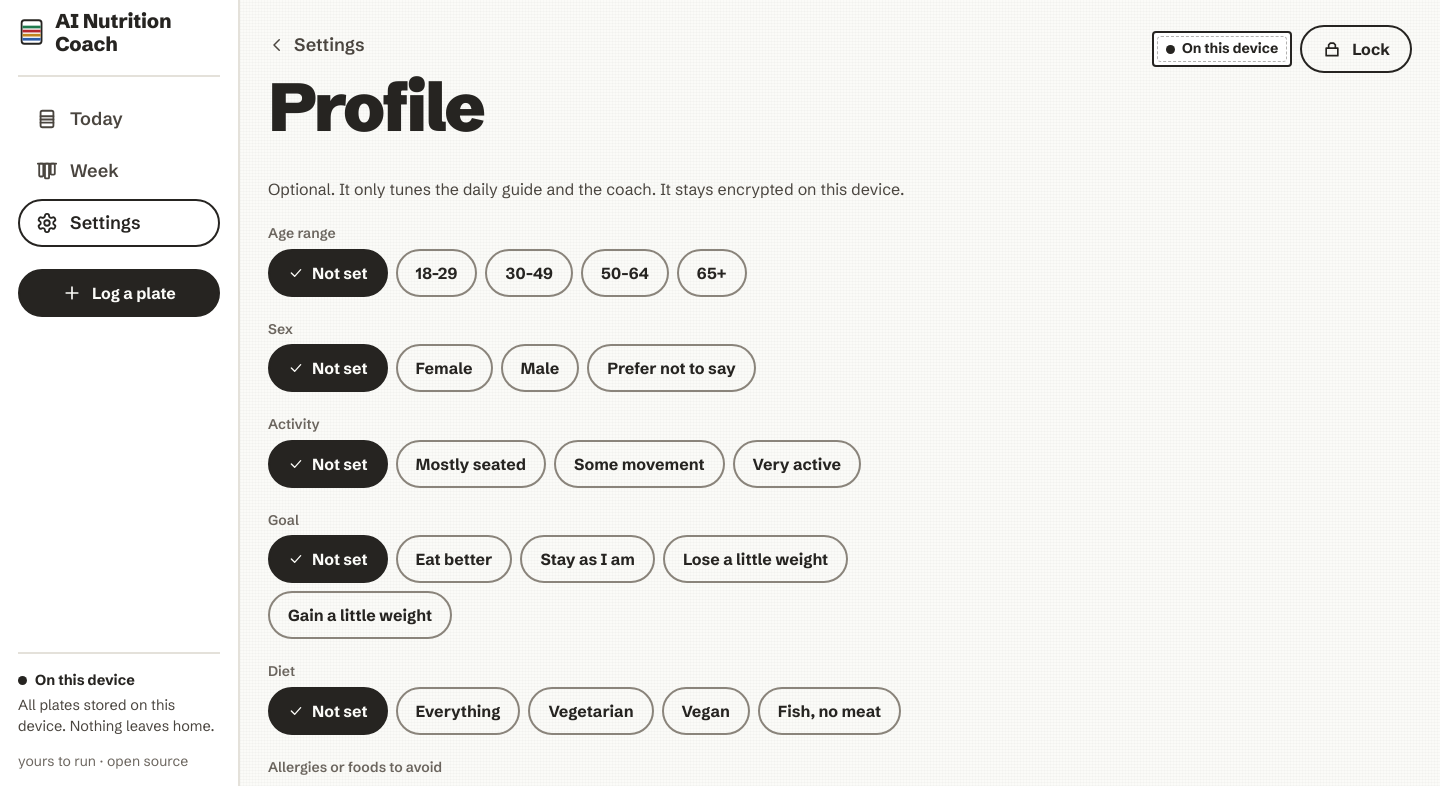
Test: ProfileScreen › a choice is kept in the encrypted store and personalises the guide
Click the radio button labelled "Female". click: (444, 368)
box: [396, 344, 492, 392]
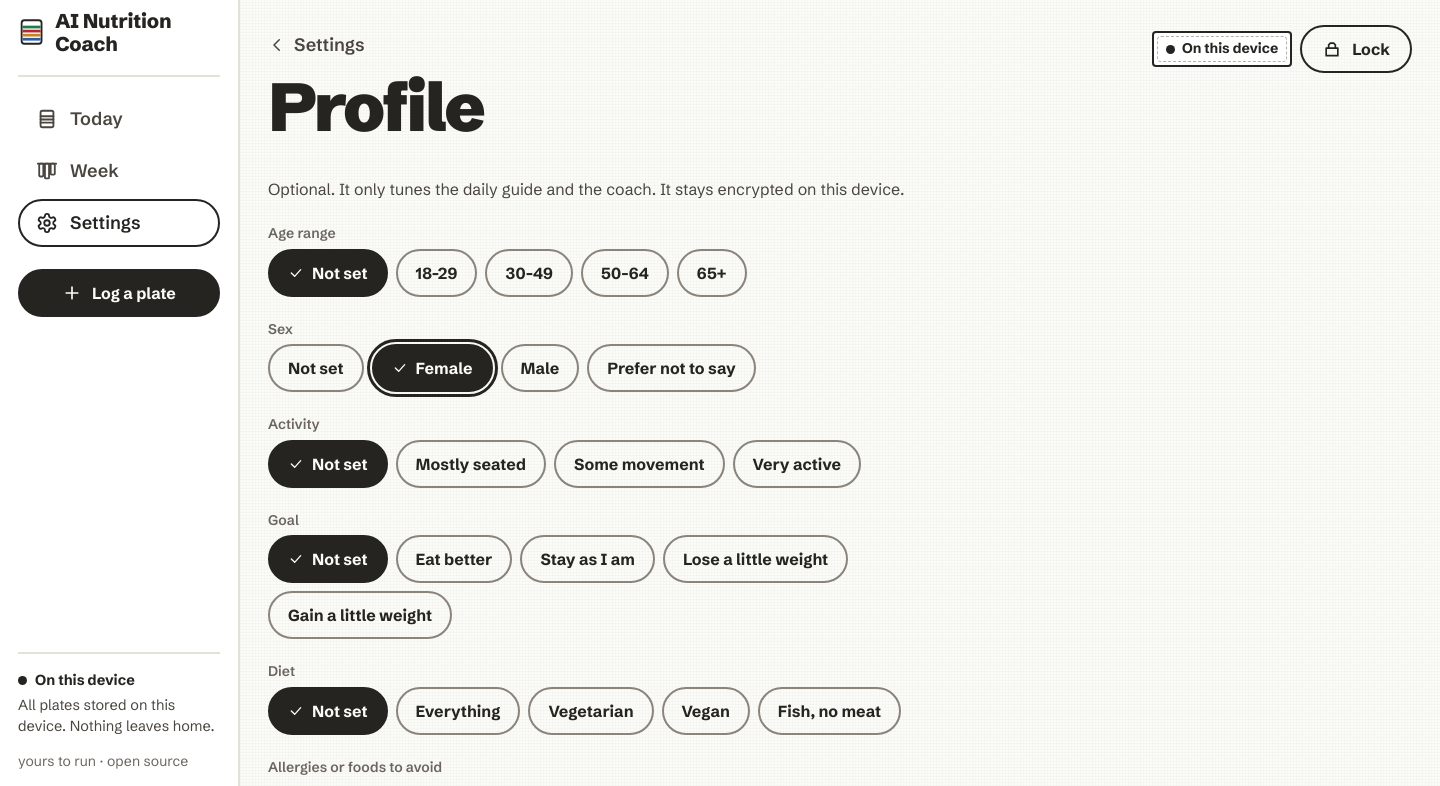
Click the radio button labelled "30-49". click: (529, 273)
box: [486, 249, 573, 297]
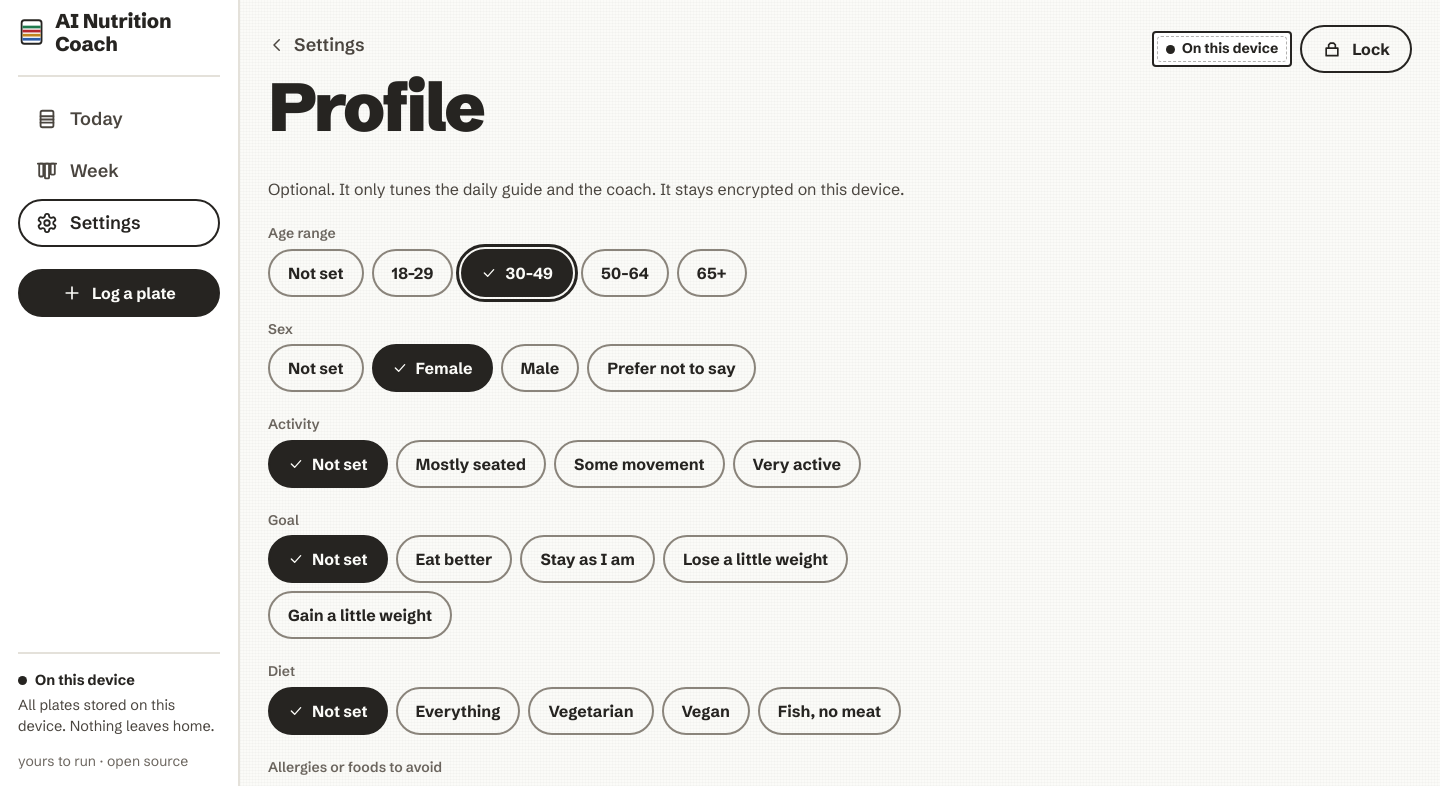
Click the radio button labelled "Some movement". click: (639, 464)
box: [554, 440, 725, 488]
(page scrolled)
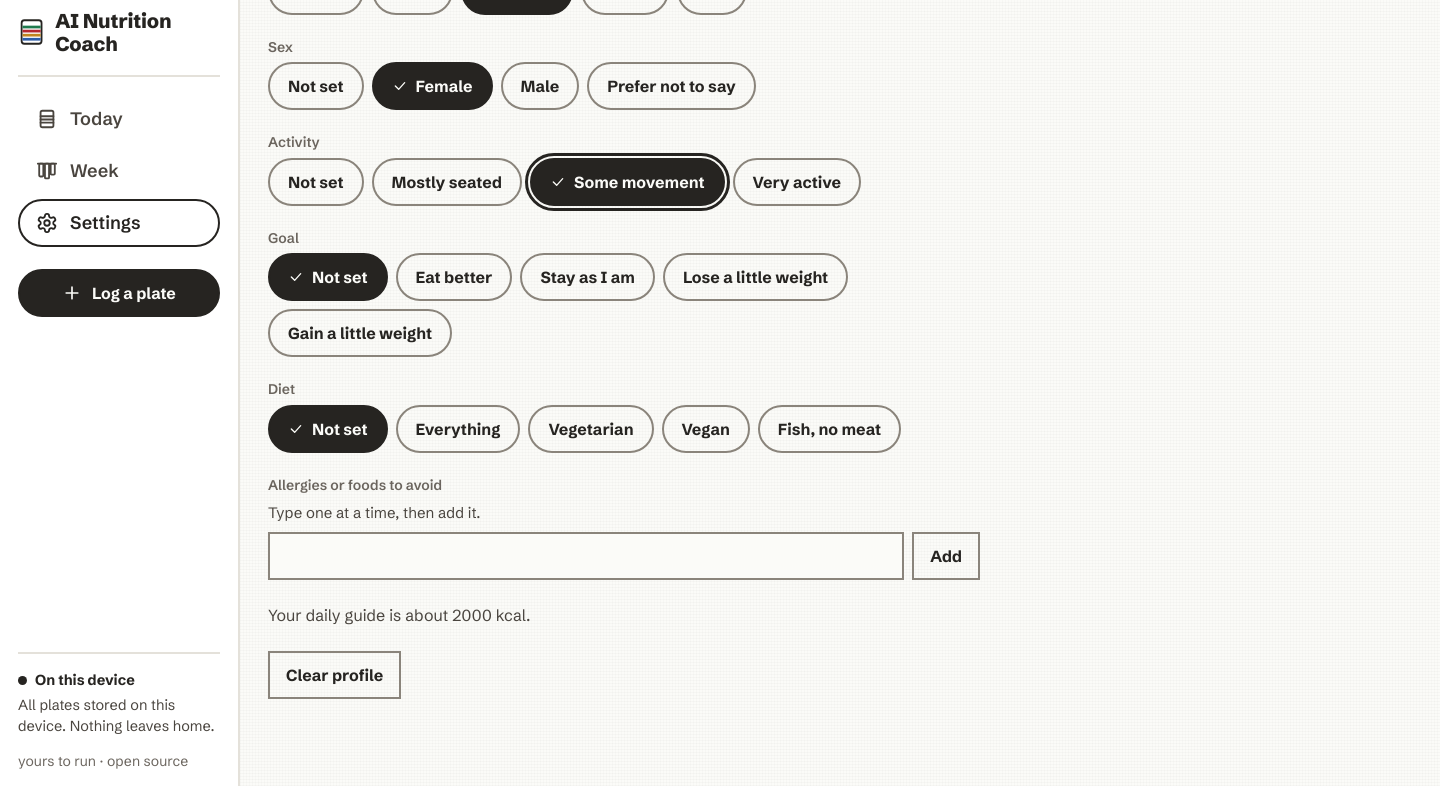
Expected: the text "Your daily guide is about 2000 kcal." is shown, [268, 605, 530, 625]
